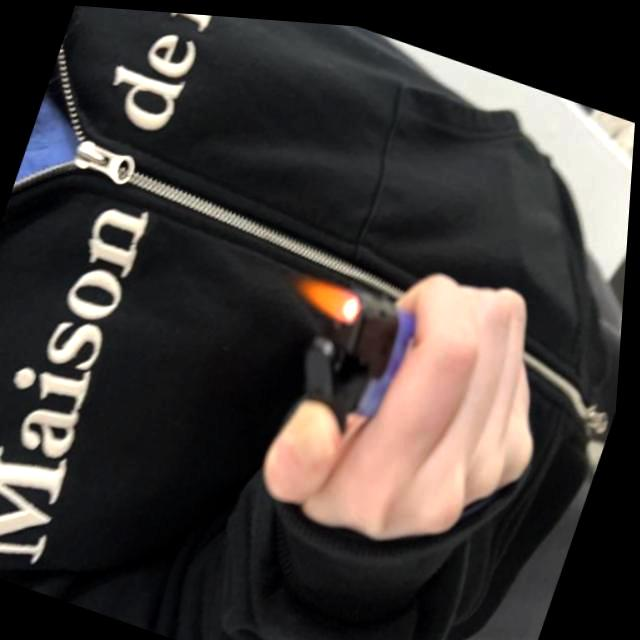fire: (289, 264, 371, 320)
